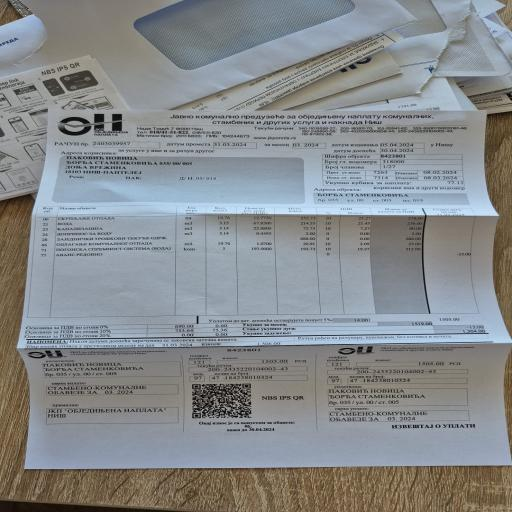stambene_usluge_nis: (321, 153, 468, 186)
stambene_usluge_nis_iznos: (239, 321, 490, 336)
